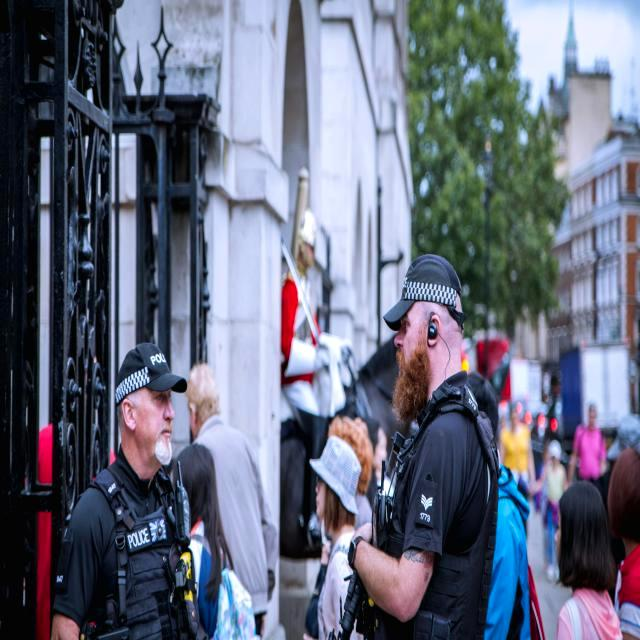no_hard_hat: (383, 254, 466, 331), (115, 343, 187, 405), (309, 436, 361, 515)
no_head_wear: (559, 481, 608, 525), (177, 443, 215, 494), (185, 363, 219, 414)
person: (373, 255, 499, 640), (53, 343, 187, 638), (185, 364, 277, 635), (173, 444, 232, 638), (310, 436, 361, 640), (557, 481, 621, 640)
